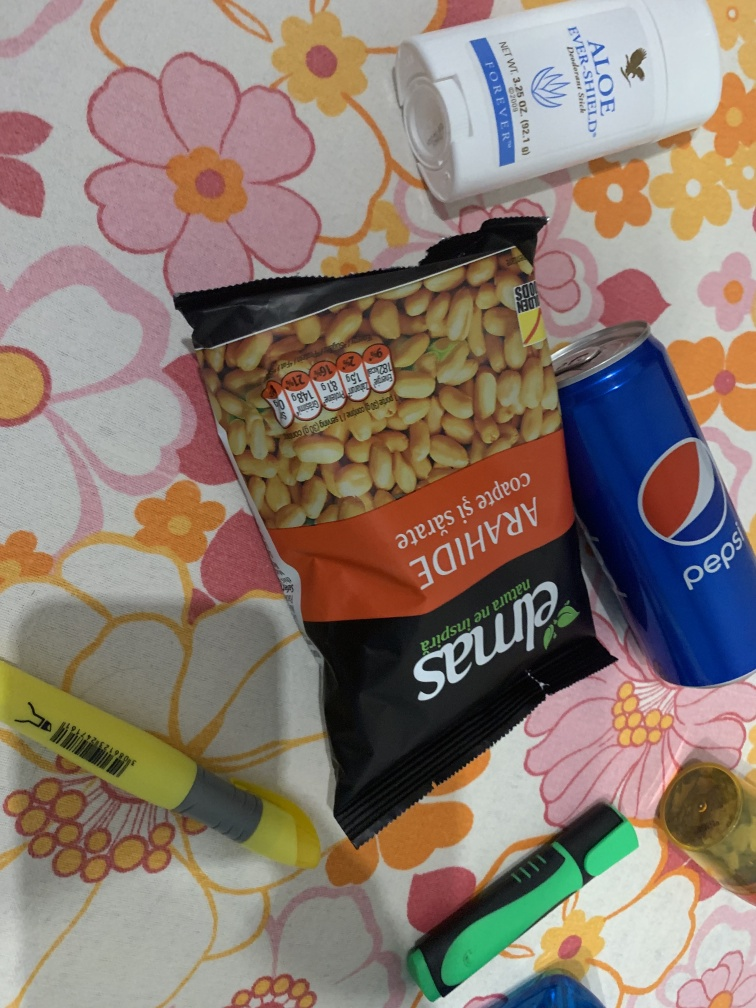peanuts: (164, 215, 627, 835)
pepsi: (541, 319, 756, 690)
